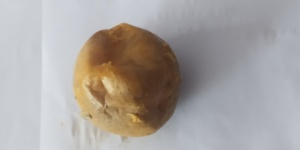BAD: (72, 23, 179, 139)
